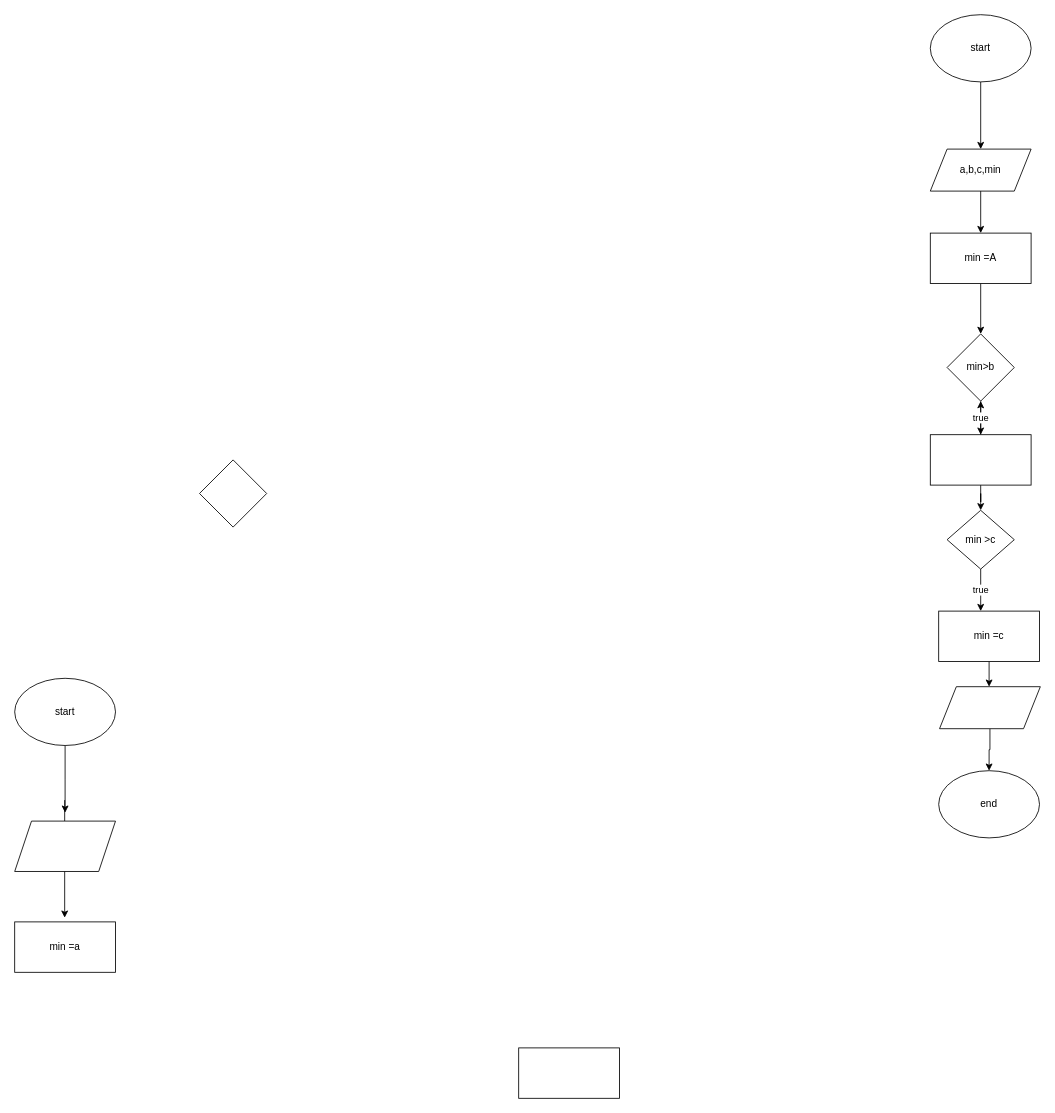
The diagram is 1055 pixels wide and 1113 high, and some of its shapes have lost their labels. Each missing label, with the centre of its shape:
a,b,c: the point at 65,846
min: the point at 989,707
min =b: the point at 980,459
ước số chung lớn nhất là n: the point at 569,1072
